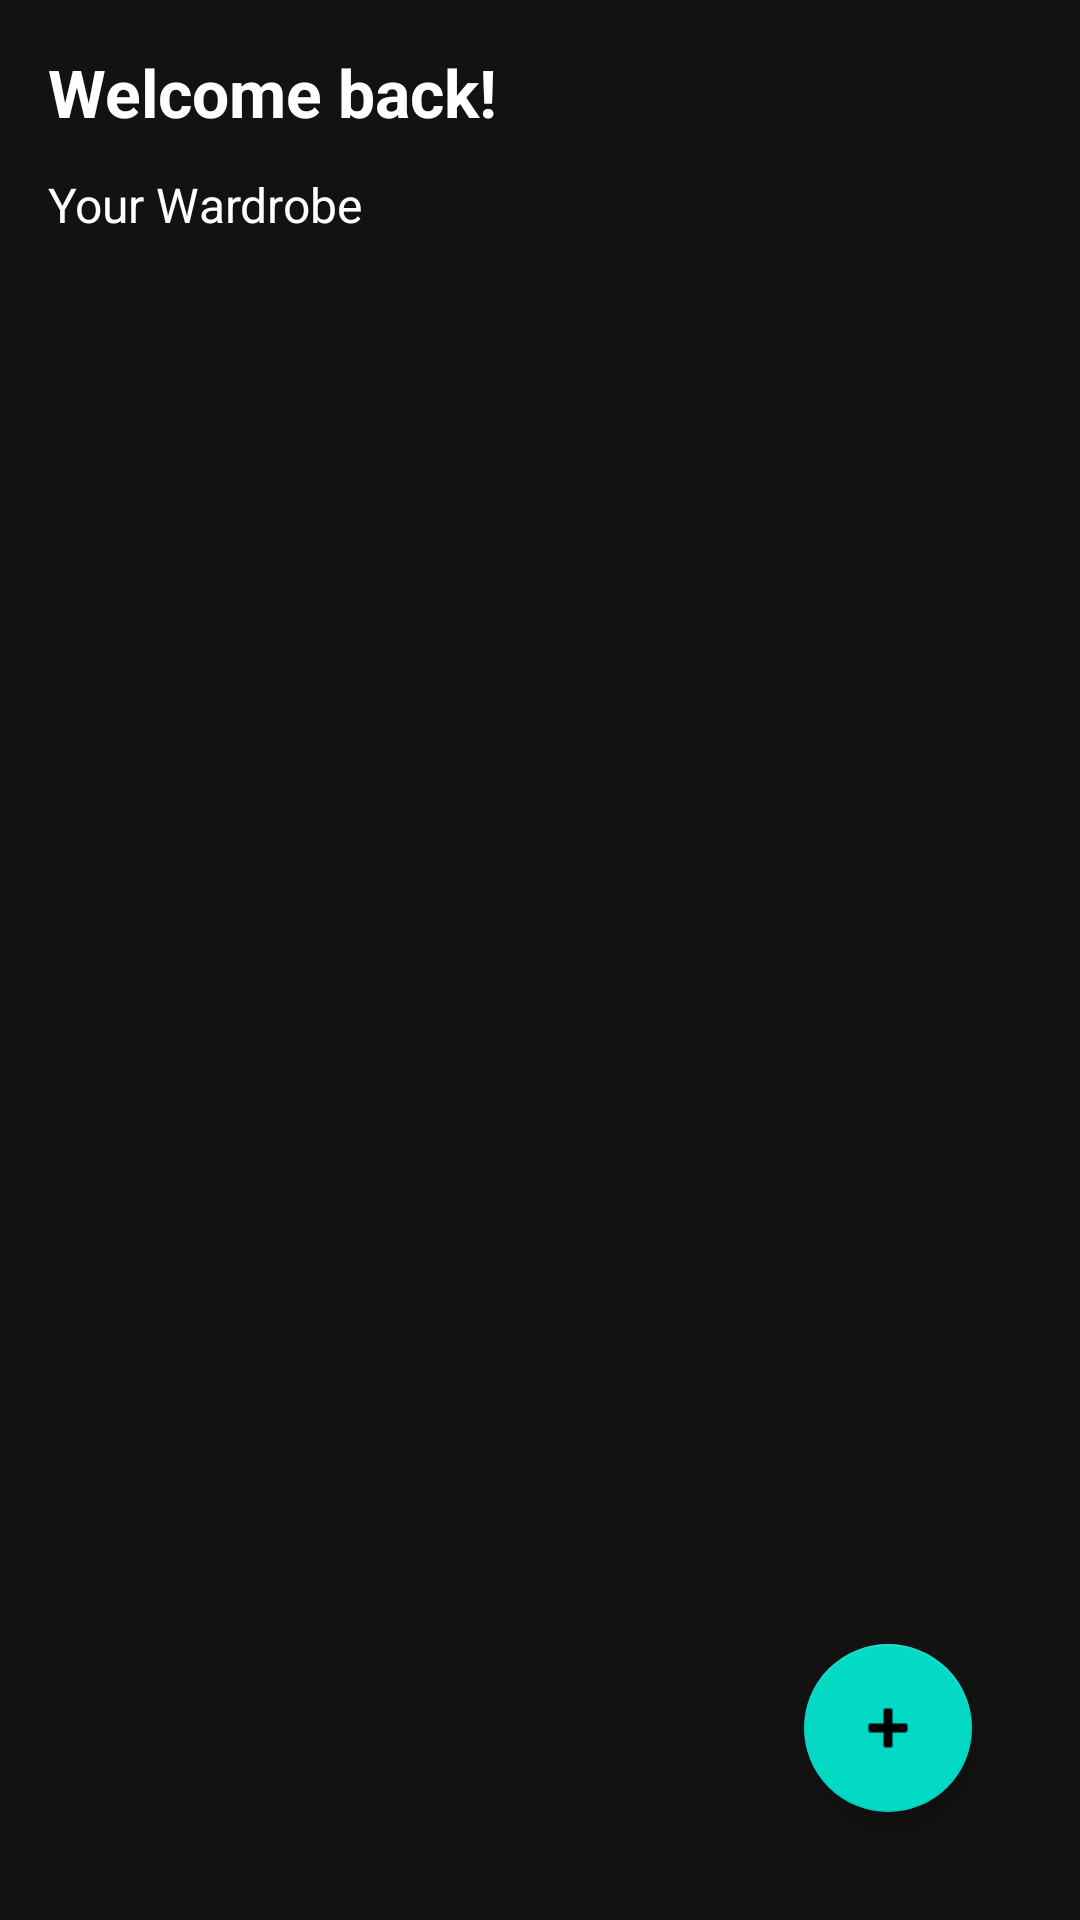

Point at icon controls on the screen. Image size 1080*1920, points as (x,y).
Add clothing: (888,1728)
